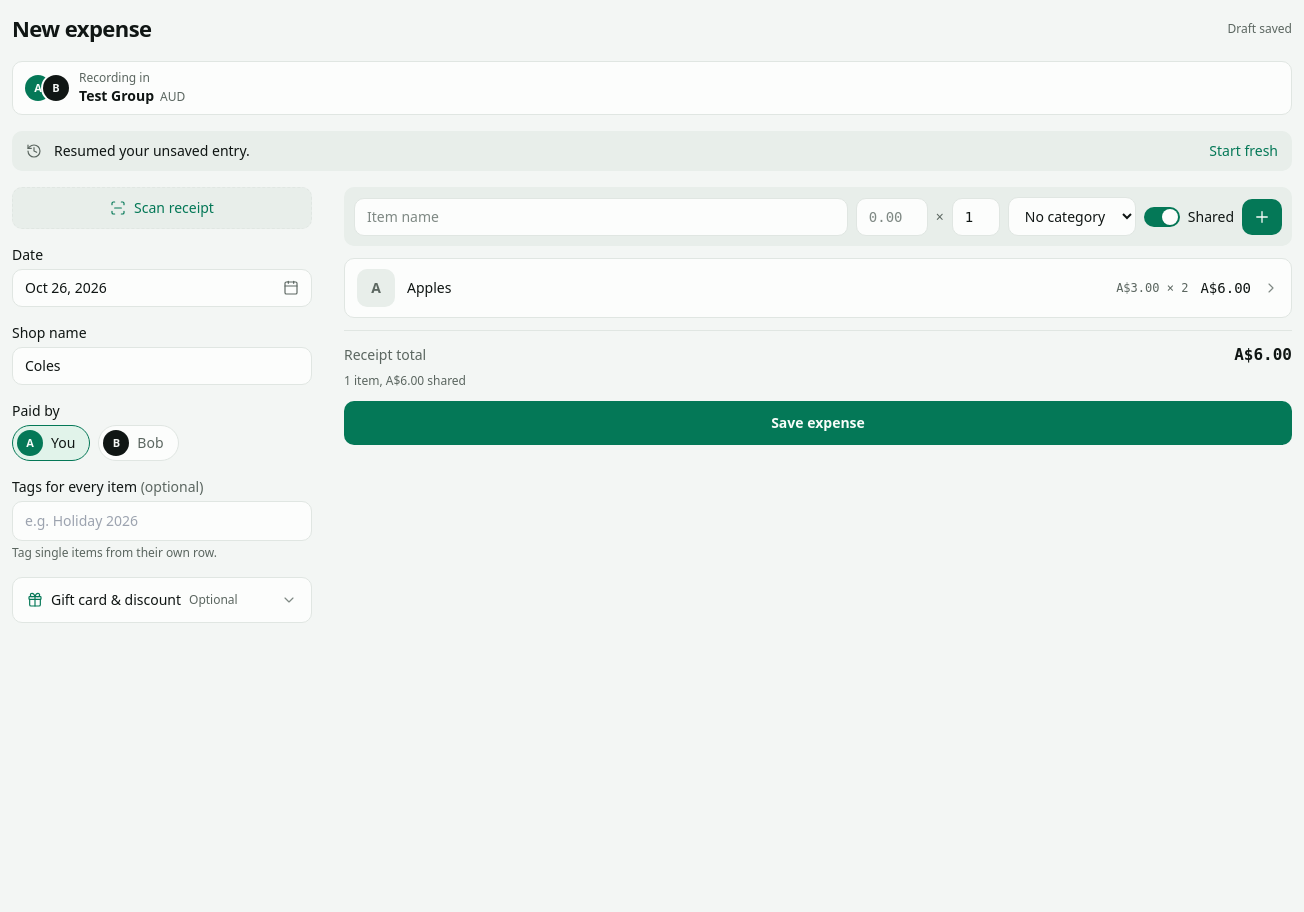
Test: ExpenseEditor › reveals a percent field defaulting to 2 when "Apply card discount" is checked
This screenshot has width=1304, height=912.
Click the button "Gift card & discount Optional".
click(162, 600)  # box 13,578 -> 311,622
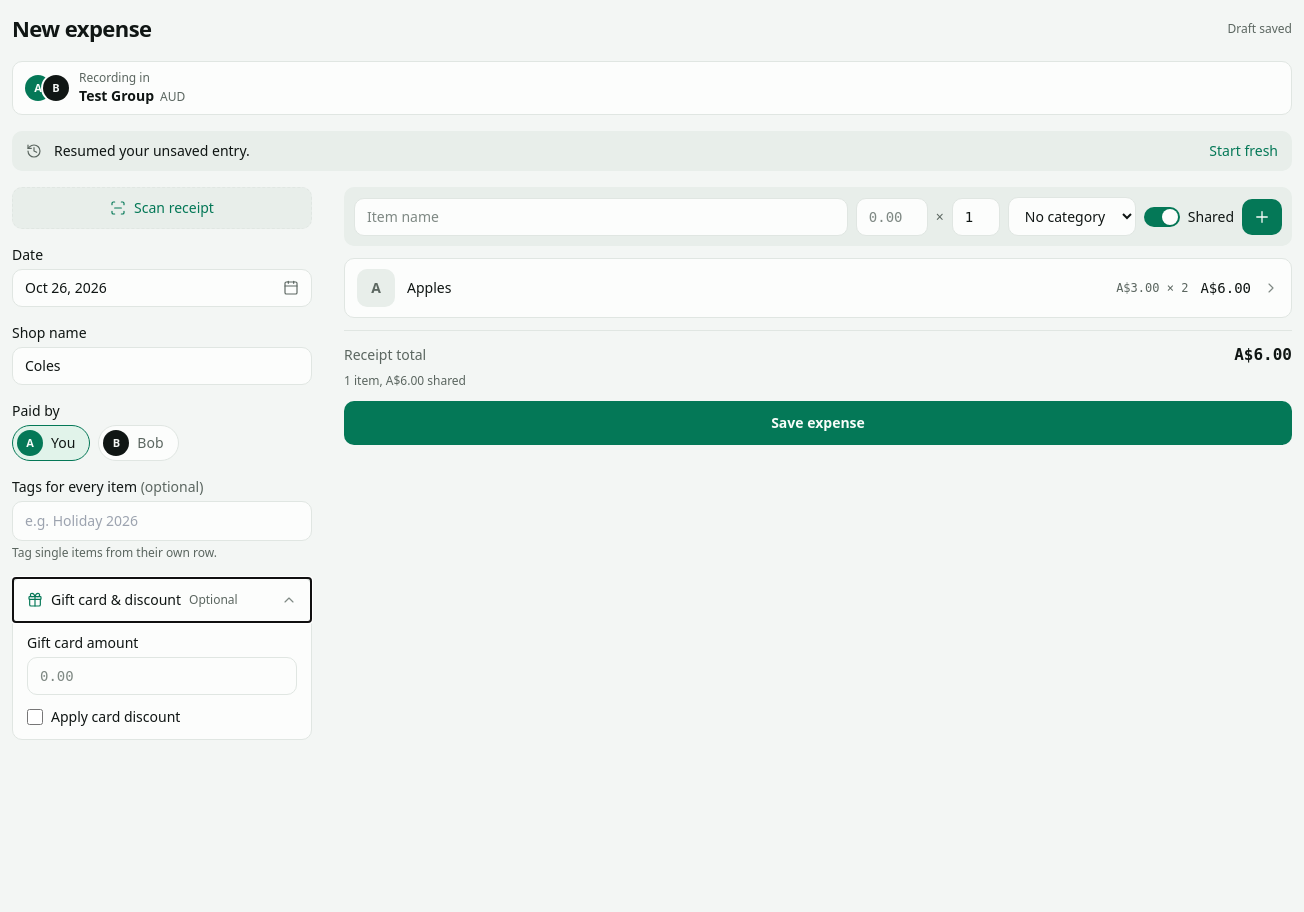
Expected: the field labelled "discount %" is not shown
Click the checkbox labelled "Apply card discount".
click(35, 717)  # box 27,709 -> 43,725
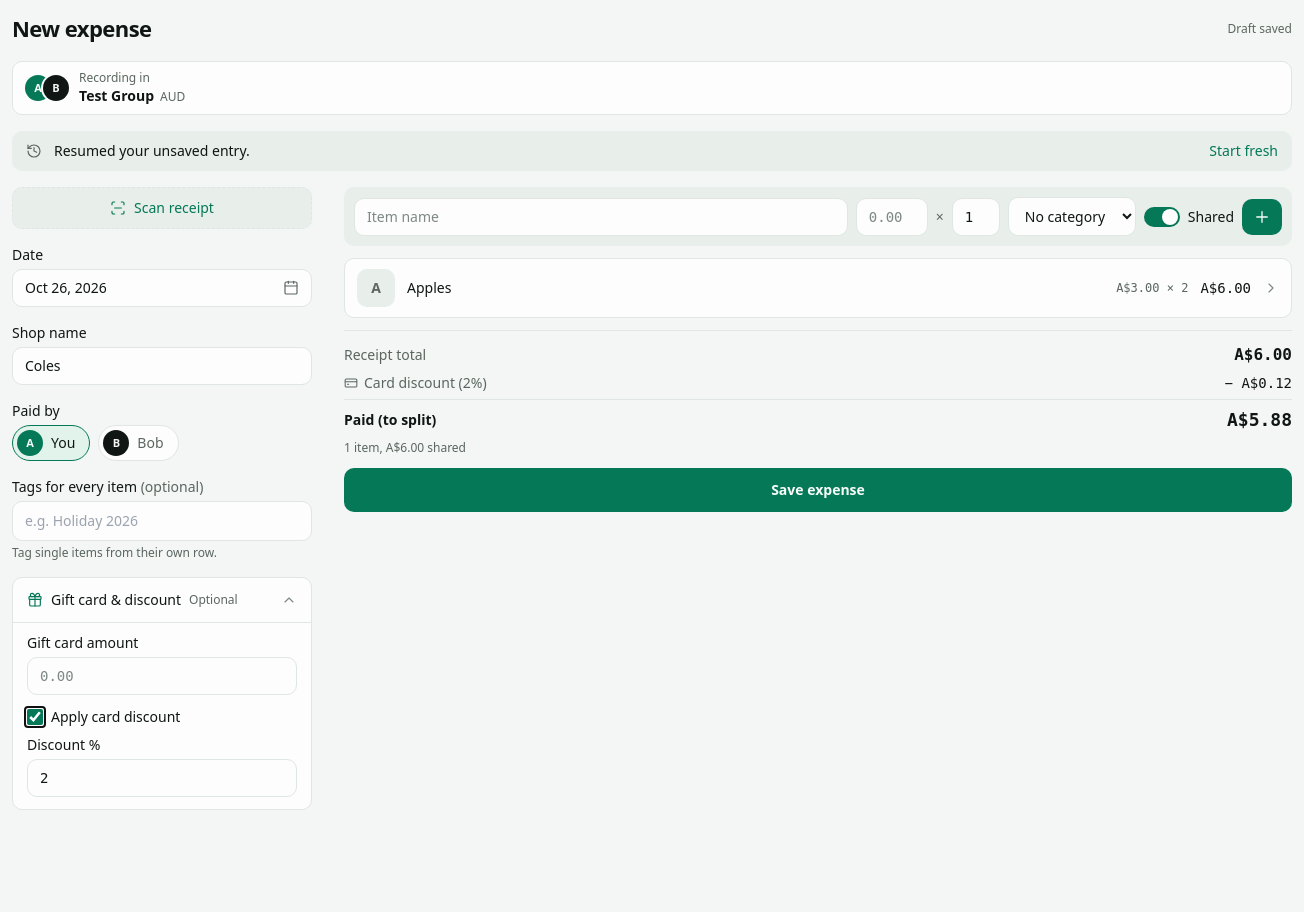
Expected: the field labelled "Discount %" holds "2", 27,759 -> 297,797
